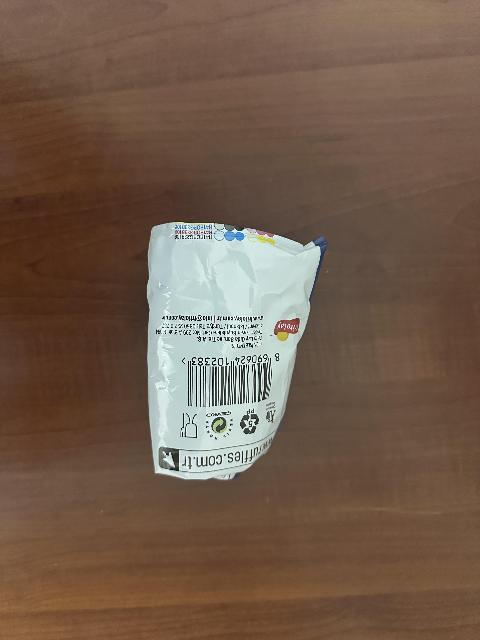Plastik: (144, 221, 324, 479)
